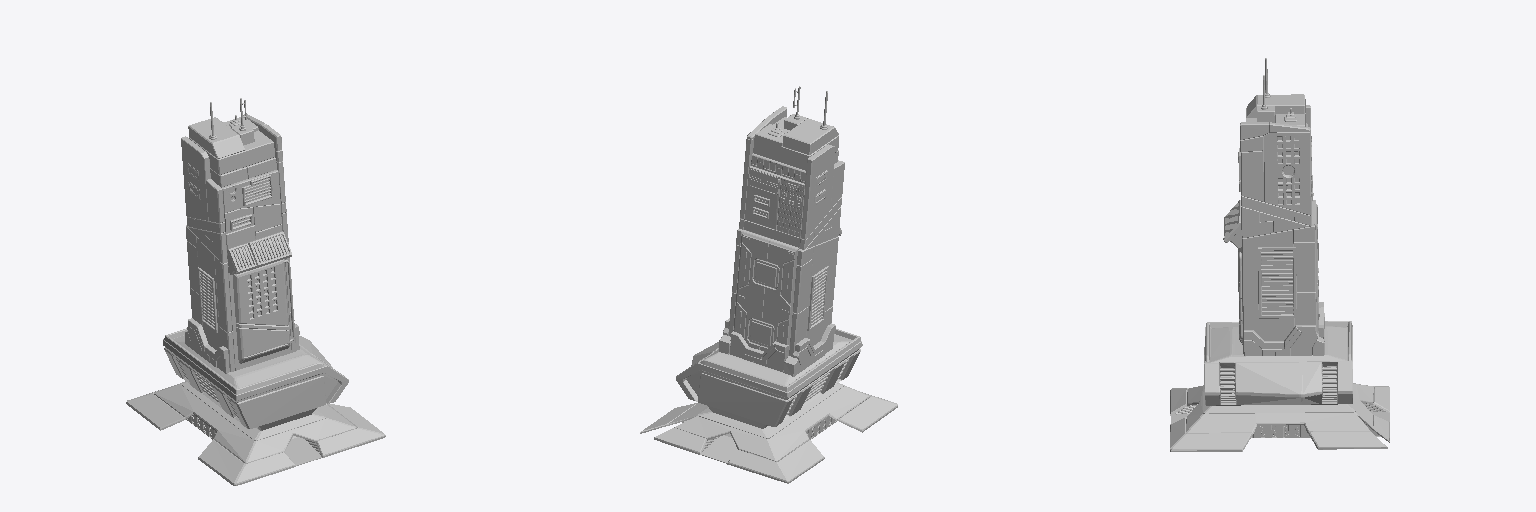
The model's file is launchpad2.obj.
3 views of the same model, side by side, from view 1: azimuth 30°, elevation 25°; view 2: azimuth 150°, elevation 25°; view 3: azimuth 270°, elevation 25° (orthographic).
Parts seen in each view (by area): view 1: Siatka Siatka Siatka Siatka Siatka Siatka Siatka; view 2: Siatka Siatka Siatka Siatka Siatka Siatka Siatka; view 3: Siatka Siatka Siatka Siatka Siatka Siatka Siatka.
Boxes of the visible parts, box(x1,y1,x2,y2) form: Siatka Siatka Siatka Siatka Siatka Siatka Siatka: box(126, 98, 385, 485); Siatka Siatka Siatka Siatka Siatka Siatka Siatka: box(640, 86, 897, 483); Siatka Siatka Siatka Siatka Siatka Siatka Siatka: box(1170, 58, 1389, 451).
Bounding box in the file's own units: 0.2408 × 0.5179 × 0.3007.